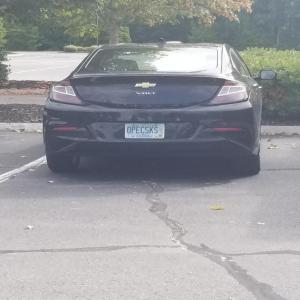Plate: (124, 123, 164, 139)
